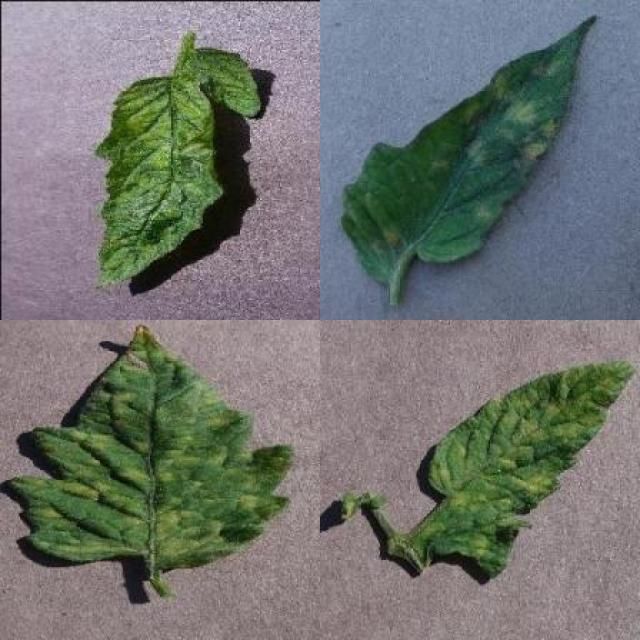Leaf Mold: (338, 15, 598, 288), (6, 324, 294, 570), (428, 360, 631, 580)
Mosaic Virus: (94, 49, 260, 294)
